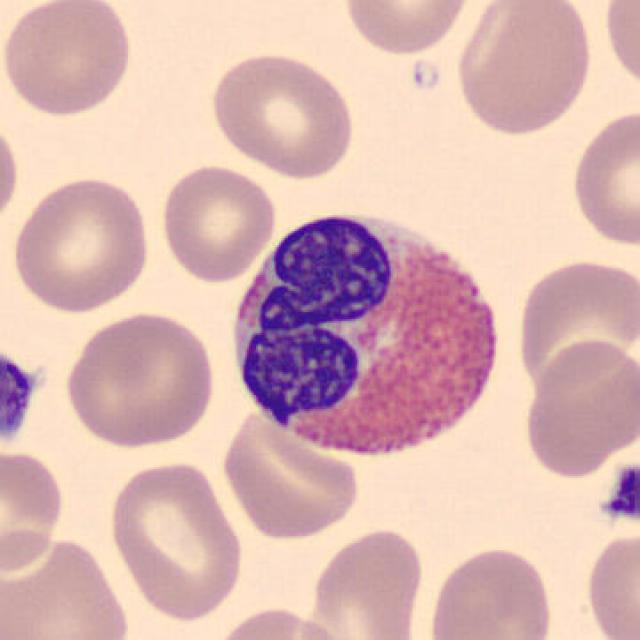Eosinophil: (218, 198, 516, 474)
Lymphocyte: (0, 338, 43, 455)
Platelets: (0, 337, 43, 455), (601, 460, 640, 526)
RBC: (103, 457, 247, 624), (58, 306, 220, 449), (9, 171, 155, 316), (217, 402, 363, 543), (451, 0, 597, 139), (206, 48, 358, 180), (519, 334, 638, 482), (512, 254, 636, 393), (0, 0, 135, 120), (157, 160, 279, 284), (0, 530, 135, 640), (305, 523, 428, 640), (423, 543, 558, 640), (567, 104, 638, 250), (0, 446, 68, 580), (338, 0, 476, 58), (582, 529, 638, 640), (206, 603, 361, 640), (599, 0, 640, 97), (0, 113, 23, 233)
